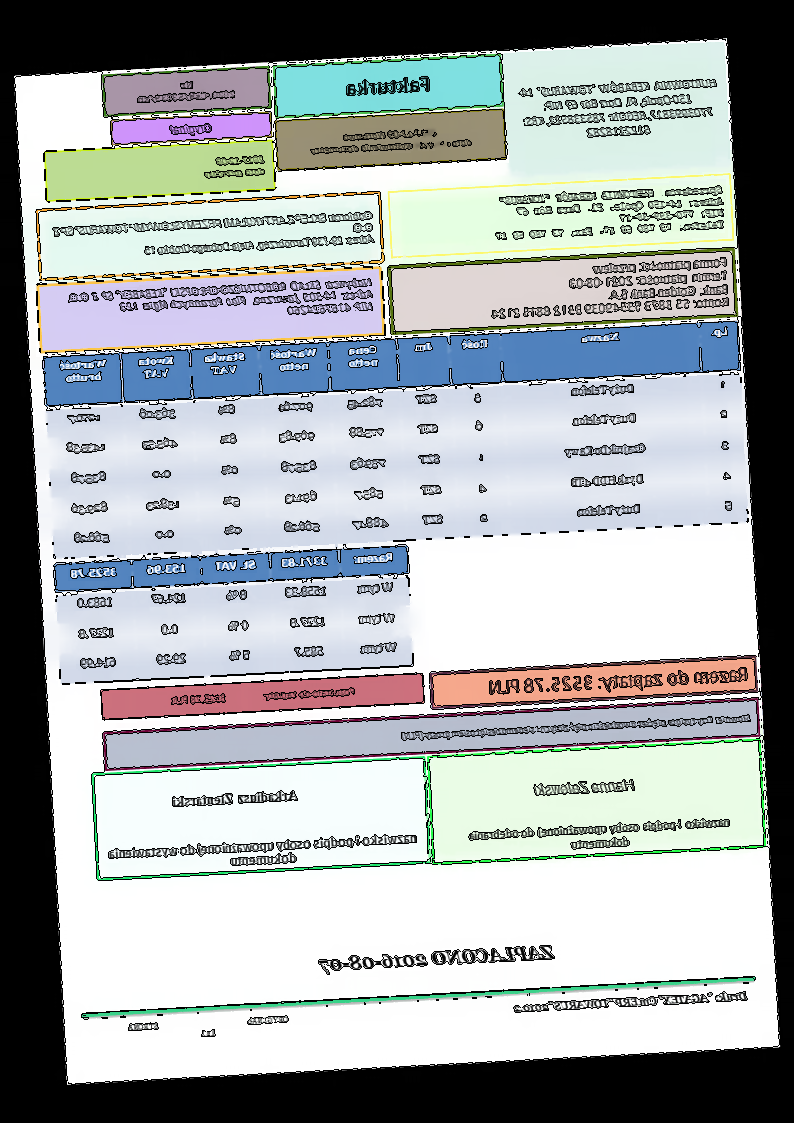Table: (41, 318, 750, 561), (53, 542, 416, 683)
TextBox: (49, 204, 379, 266), (64, 271, 379, 332), (487, 254, 733, 321), (490, 179, 729, 245), (103, 826, 422, 875), (514, 73, 722, 146), (398, 707, 756, 745), (463, 811, 735, 859), (486, 658, 754, 700), (314, 938, 558, 979), (507, 987, 752, 1019), (307, 120, 477, 158), (165, 680, 361, 710), (125, 1011, 292, 1046), (168, 785, 301, 814), (132, 74, 238, 107), (531, 770, 640, 802), (343, 71, 436, 99), (201, 151, 269, 185), (166, 118, 215, 138)
